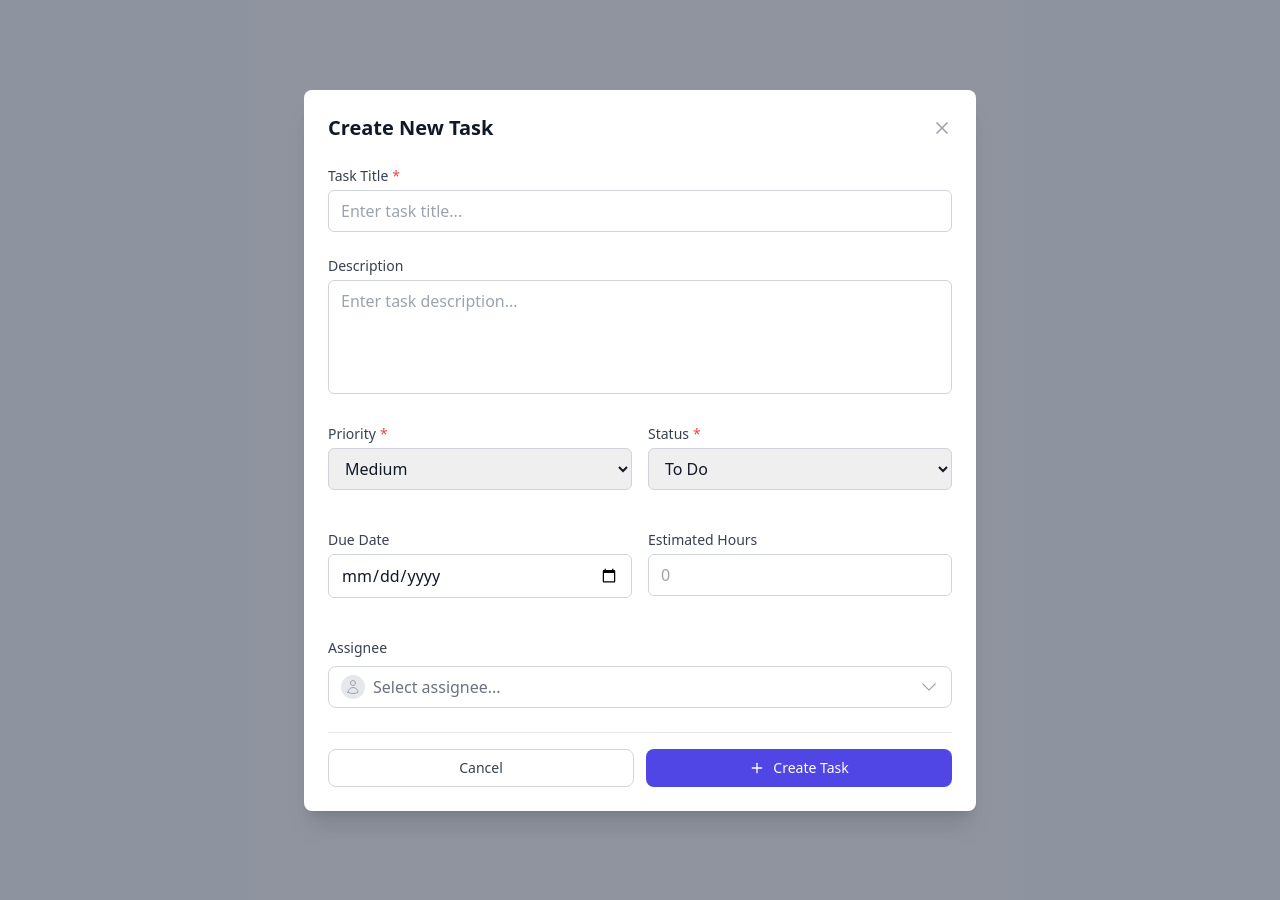
Scenario: TaskModal › Task Creation Mode › should show validation errors for empty title
The image size is (1280, 900).
Click the button "Create Task" at (799, 768), box [646,748,952,786]
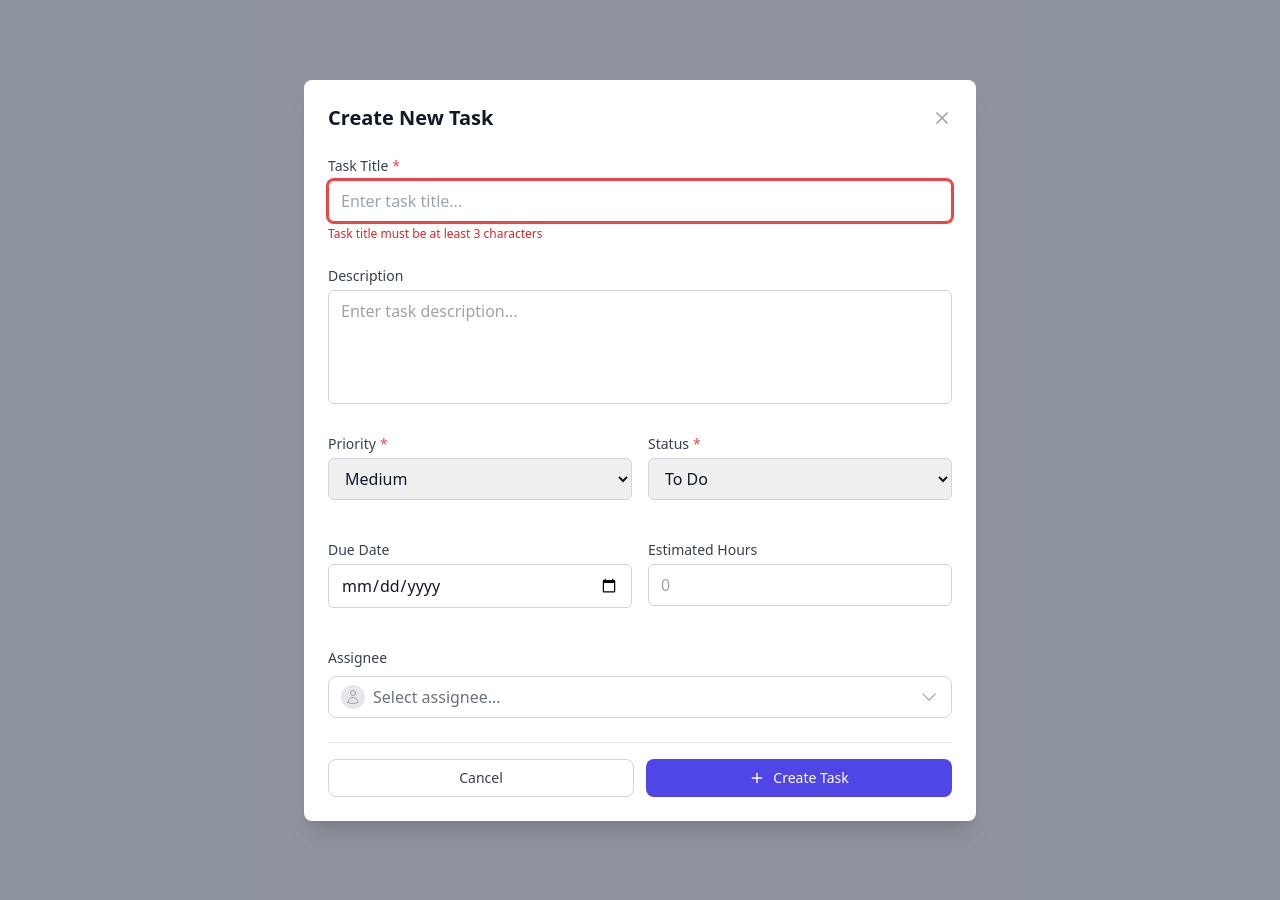
Check: the text "Task title must be at least 3 characters" is shown, box [328,224,542,242]
